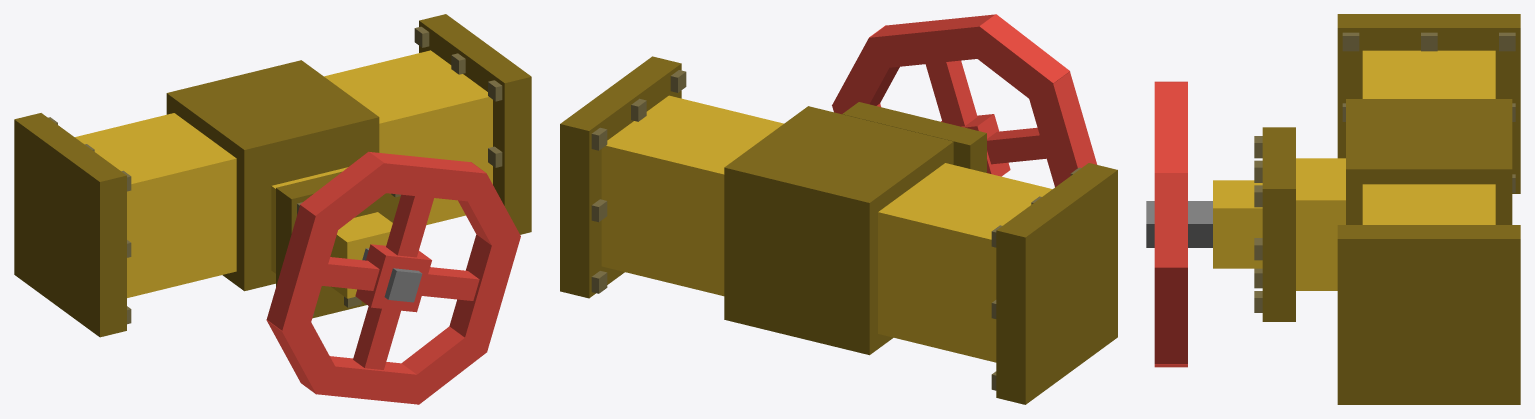
File: steampipe_inventory_valve.obj
The picture shows the model from 3 angles, left to right: view 1: azimuth 30°, elevation 25°; view 2: azimuth 150°, elevation 25°; view 3: azimuth 270°, elevation 25°; orthographic projection. The views are drawn at different scales.
Size of the model in its own units: 1 by 0.5543 by 0.7031.
